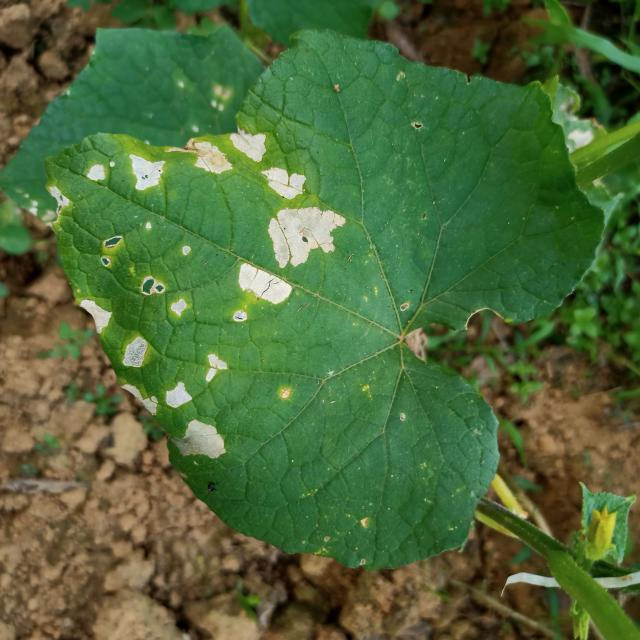disease_cucumber: (237, 207, 345, 304), (163, 345, 233, 461), (193, 129, 267, 174), (122, 332, 158, 415), (87, 154, 162, 190), (141, 270, 190, 316), (260, 165, 305, 199), (80, 293, 111, 335)
